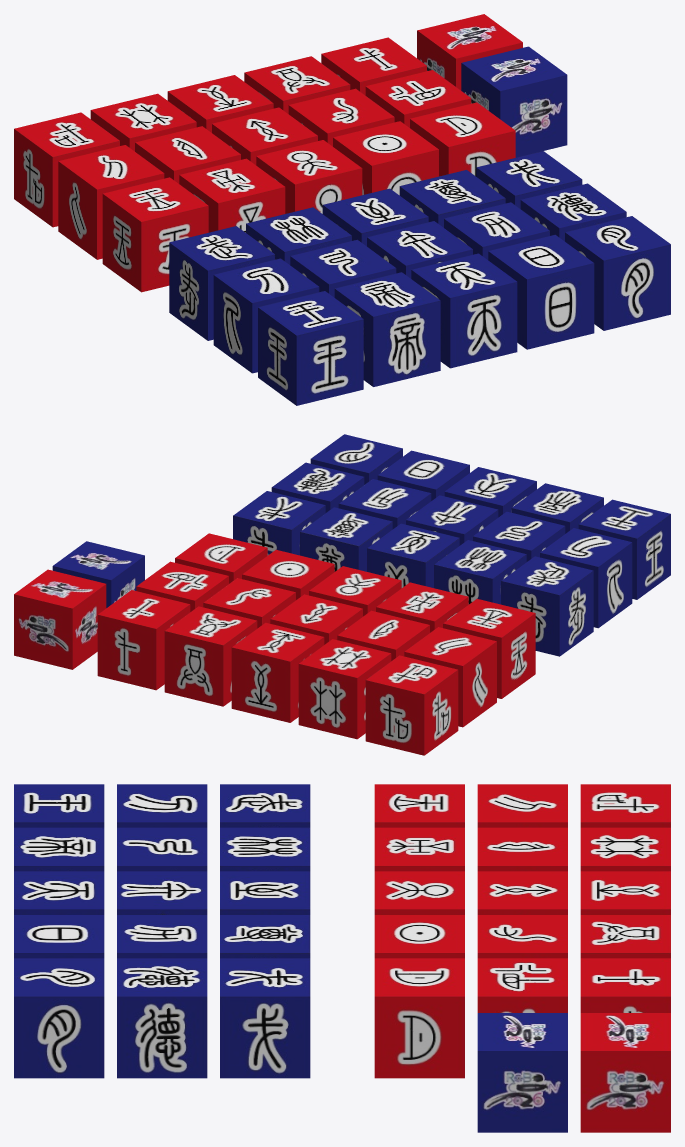
The model's file is kfs.fbx.
3 views of the same model, one above another, from view 1: azimuth 30°, elevation 25°; view 2: azimuth 150°, elevation 25°; view 3: azimuth 270°, elevation 25° (orthographic). The views are drawn at different scales.
Visible parts, largest first — view 1: Fake11, Real11, Fake13, Fake14, Fake12, Fake15, BlueR1, Real6, Fake6, Real1, Fake1, Real12 (+20 smaller); view 2: Real1, RedR1, Fake1, Real2, Real4, Real3, Real5, Fake6, Real6, Real11, Fake11, Fake2 (+20 smaller); view 3: Fake10, Fake15, Fake5, Real15, BlueR1, RedR1, Real10, Real5, Fake12, Fake2, Fake7, Real12 (+20 smaller).
Part boxes in pixels (x1,y1,x2,y2): Fake11: (258, 291, 363, 405); Real11: (102, 177, 208, 292); Fake13: (411, 253, 517, 368); Fake14: (488, 234, 594, 349); Fake12: (334, 272, 440, 386); Fake15: (565, 216, 670, 330); BlueR1: (461, 46, 567, 157); Real6: (58, 145, 164, 259); Fake6: (213, 258, 319, 373); Real1: (14, 112, 119, 227); Fake1: (169, 226, 274, 340); Real12: (179, 158, 285, 232); Real1: (365, 655, 458, 755); RedR1: (14, 569, 106, 669); Fake1: (501, 556, 593, 656); Real2: (298, 639, 391, 739); Real4: (164, 606, 257, 706); Real3: (231, 622, 324, 722); Real5: (97, 590, 190, 690); Fake6: (540, 528, 632, 628); Real6: (404, 627, 496, 727); Real11: (443, 599, 535, 698); Fake11: (578, 499, 670, 599); Fake2: (434, 540, 526, 604); Fake10: (117, 958, 207, 1078); Fake15: (14, 958, 104, 1078); Fake5: (220, 958, 310, 1078); Real15: (374, 958, 464, 1078); BlueR1: (477, 1013, 567, 1132); RedR1: (580, 1013, 670, 1132); Real10: (477, 958, 567, 1012); Real5: (580, 958, 670, 1012); Fake12: (14, 827, 104, 871); Fake2: (220, 827, 310, 871); Fake7: (117, 827, 207, 871); Real12: (374, 827, 464, 871).
Size of the model in its own units: 245 by 255 by 35.
